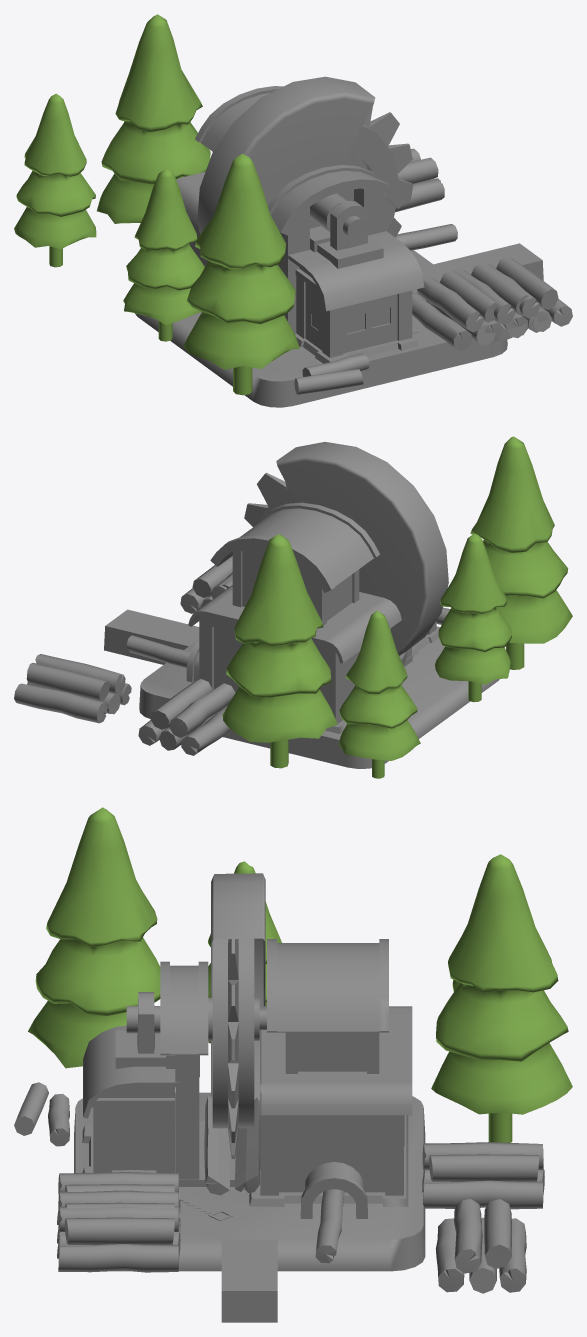
The model's file is wood_Resources_mod_v00.fbx.
3 renders of one model, top to bottom at view 1: azimuth 30°, elevation 25°; view 2: azimuth 150°, elevation 25°; view 3: azimuth 270°, elevation 25°, orthographic. The views are drawn at different scales.
Parts seen in each view (by area): view 1: house, pine_tree03, pine_tree01, pile_of_wood01, pine_tree02, pine_tree04, wood_cutter_blade1, pile_of_wood04, pile_of_wood02; view 2: house, pine_tree01, pine_tree03, pine_tree04, pine_tree02, pile_of_wood02, pile_of_wood03, pile_of_wood01, wood_cutter_blade1; view 3: house, pine_tree01, pine_tree03, pile_of_wood01, wood_cutter_blade1, pile_of_wood03, pile_of_wood02, pile_of_wood04, pine_tree04.
Part boxes in pixels (left/top/right/bottom): house: left=135, top=76, right=543, bottom=407; pine_tree03: left=183, top=153, right=299, bottom=395; pine_tree01: left=97, top=14, right=210, bottom=223; pile_of_wood01: left=412, top=256, right=572, bottom=350; pine_tree02: left=14, top=93, right=96, bottom=267; pine_tree04: left=123, top=168, right=204, bottom=341; wood_cutter_blade1: left=310, top=106, right=413, bottom=239; pile_of_wood04: left=294, top=353, right=369, bottom=394; pile_of_wood02: left=395, top=148, right=444, bottom=212; house: left=104, top=442, right=499, bottom=768; pine_tree01: left=222, top=534, right=337, bottom=768; pine_tree03: left=470, top=436, right=572, bottom=669; pine_tree04: left=435, top=533, right=511, bottom=702; pine_tree02: left=338, top=610, right=420, bottom=778; pile_of_wood02: left=14, top=654, right=131, bottom=723; pile_of_wood03: left=138, top=679, right=235, bottom=755; pile_of_wood01: left=180, top=556, right=232, bottom=613; wood_cutter_blade1: left=244, top=472, right=295, bottom=526; house: left=74, top=873, right=425, bottom=1322; pine_tree01: left=431, top=854, right=572, bottom=1142; pine_tree03: left=28, top=807, right=160, bottom=1068; pile_of_wood01: left=57, top=1172, right=180, bottom=1272; wood_cutter_blade1: left=126, top=938, right=266, bottom=1158; pile_of_wood03: left=422, top=1142, right=544, bottom=1209; pile_of_wood02: left=436, top=1199, right=526, bottom=1293; pile_of_wood04: left=14, top=1082, right=69, bottom=1146; pine_tree04: left=208, top=861, right=281, bottom=1043.
Bounding box in the file's own units: 1.67 × 0.9912 × 1.63.
